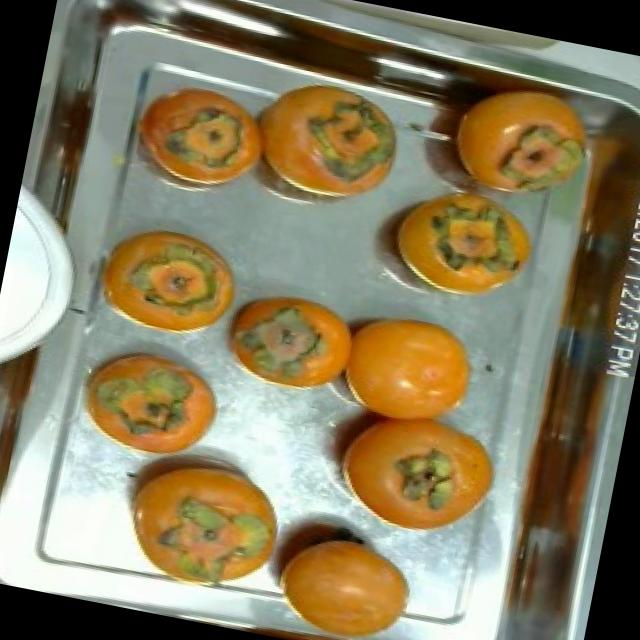Fruit: (95, 426, 307, 604), (310, 388, 520, 564), (220, 65, 423, 235), (362, 170, 558, 325), (311, 288, 497, 450), (55, 326, 242, 482), (426, 68, 615, 222), (74, 204, 261, 356), (107, 55, 278, 211), (196, 268, 374, 412), (249, 506, 434, 640)
